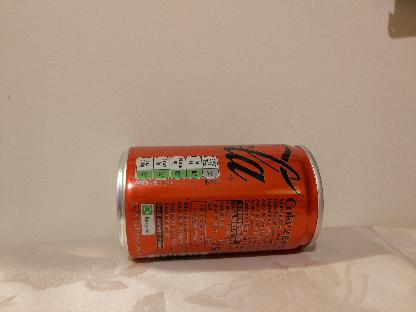Can: (116, 144, 324, 260)
